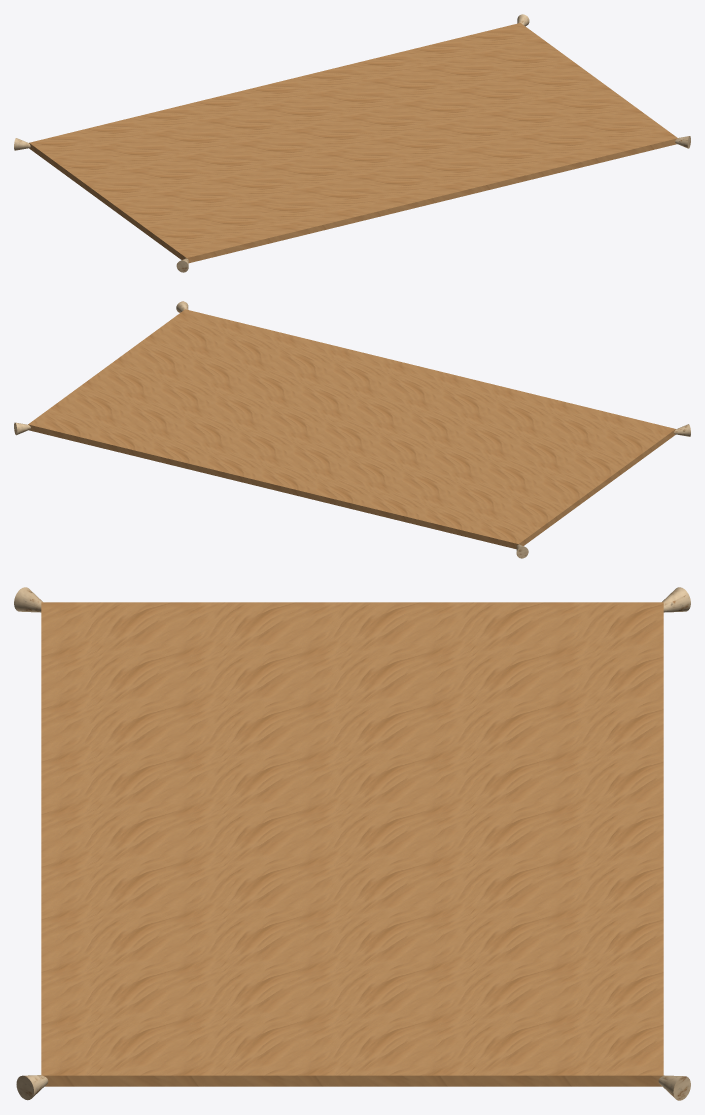
Rendered from CarpetWithTassels.fbx.
The picture shows the model from 3 angles, top to bottom: view 1: azimuth 30°, elevation 25°; view 2: azimuth 150°, elevation 25°; view 3: azimuth 270°, elevation 25°; orthographic projection. The views are drawn at different scales.
Visible parts, largest first — view 1: block; view 2: block; view 3: block.
Boxes of the visible parts, x1,y1,x2,y2 form: block: (29,23,677,263); block: (28,309,675,549); block: (41,602,663,1086).
Size of the model in its own units: 94.41 by 2.08 by 54.41.
2 materials, 2 textured.
